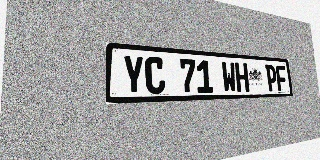1: (196, 60, 213, 93)
7: (179, 59, 197, 93)
C: (145, 56, 166, 94)
F: (275, 65, 288, 91)
H: (235, 62, 249, 92)
P: (265, 64, 278, 91)
W: (221, 61, 237, 92)
Y: (122, 55, 145, 95)
